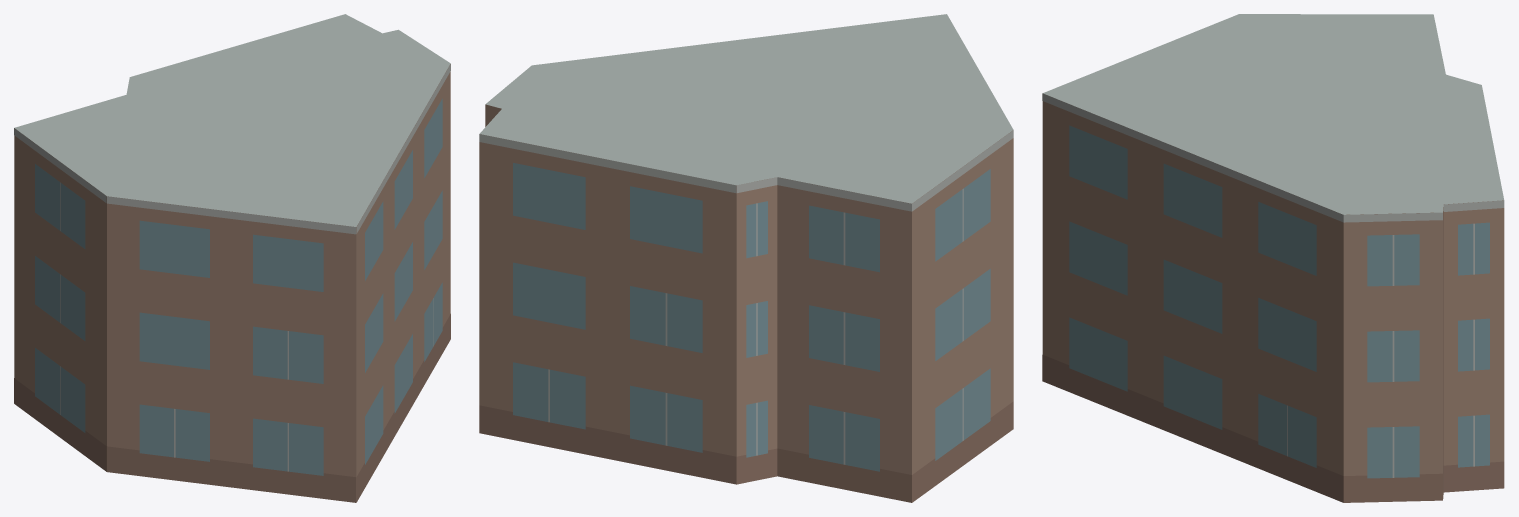
Rendered from survey-upis-32687361.glb.
3 renders of one model, left to right at view 1: azimuth 30°, elevation 25°; view 2: azimuth 150°, elevation 25°; view 3: azimuth 270°, elevation 25°, orthographic. The views are drawn at different scales.
Parts seen in each view (by area): view 1: survey-upis-32687361.tmp; view 2: survey-upis-32687361.tmp; view 3: survey-upis-32687361.tmp.
Part boxes in pixels (box(x1,y1,x2,y2)): survey-upis-32687361.tmp: box(14, 14, 450, 502); survey-upis-32687361.tmp: box(479, 14, 1013, 502); survey-upis-32687361.tmp: box(1042, 14, 1504, 502).
Size of the model in its own units: 13.69 by 9.15 by 13.3.
